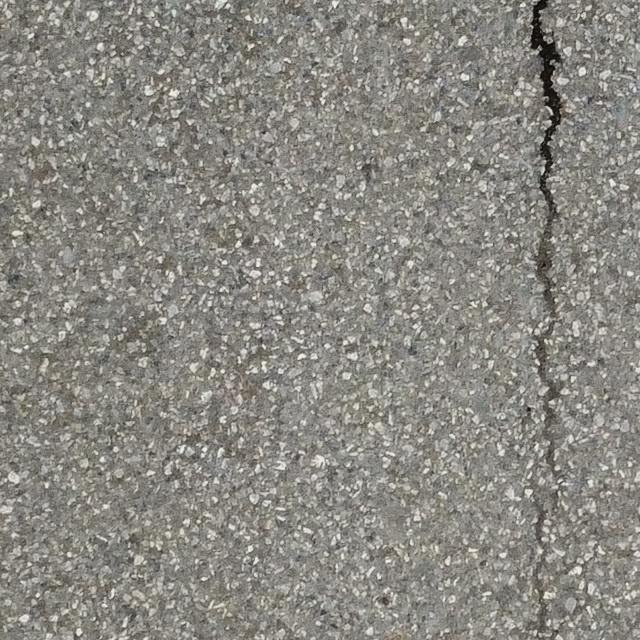LongitudinalCrack: (530, 1, 562, 220)
